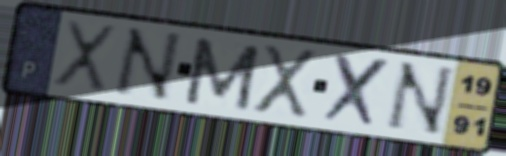M: (180, 34, 264, 114)
N: (107, 25, 186, 105), (379, 59, 458, 139)
X: (319, 50, 395, 132), (48, 17, 120, 98), (251, 42, 320, 121)
